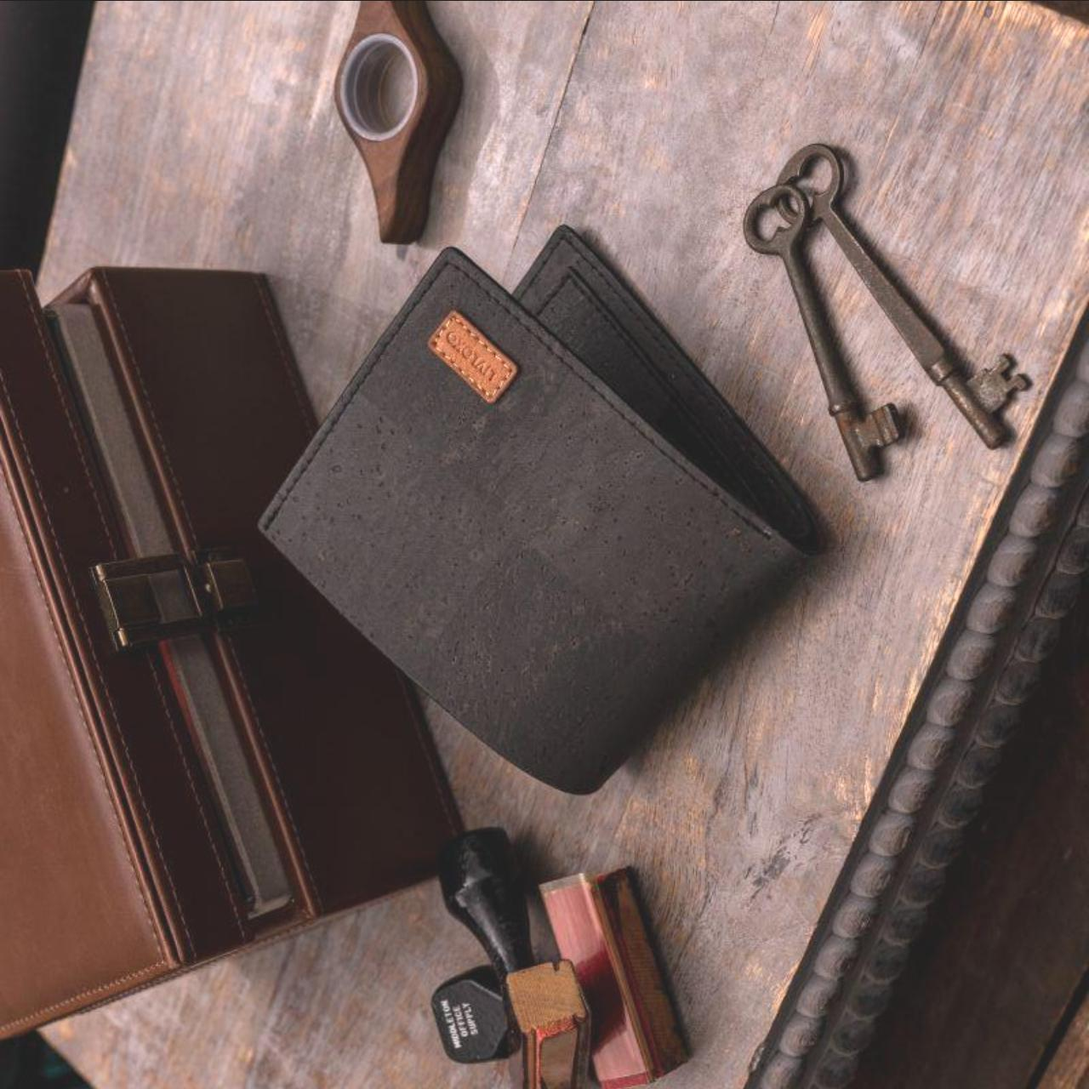wallet: (207, 157, 830, 811)
